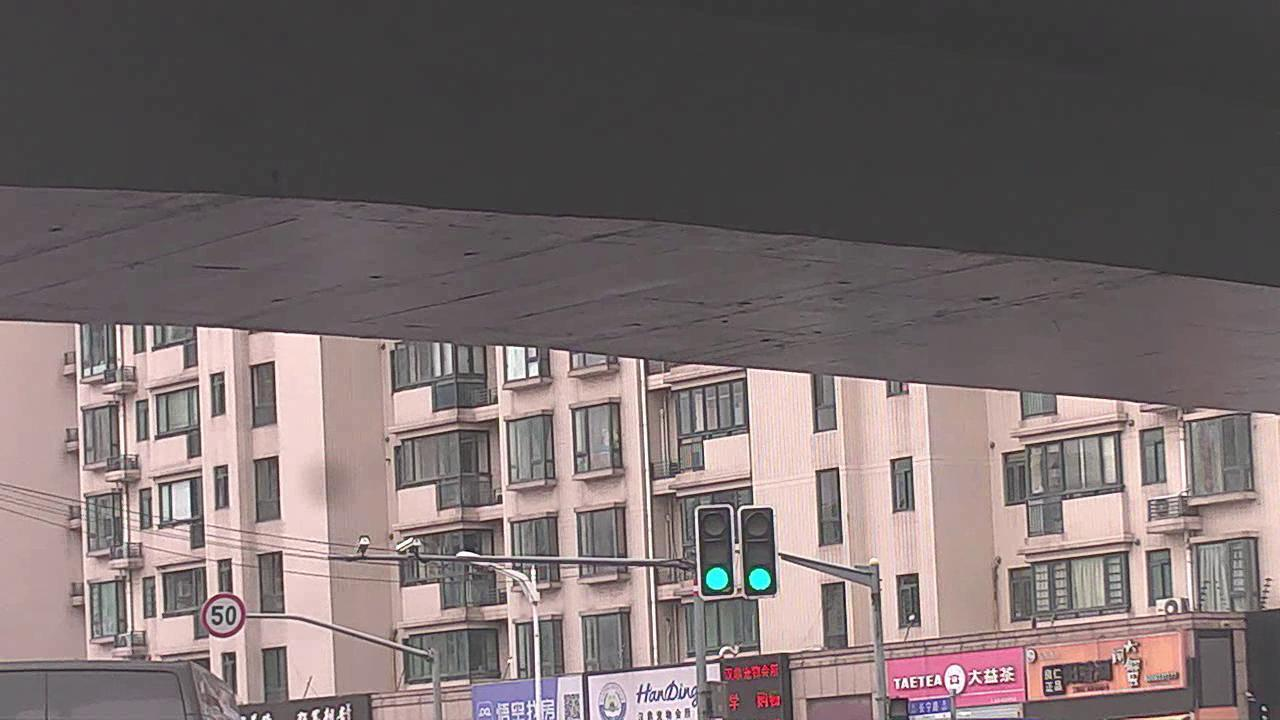traffic_light: (737, 507, 780, 600), (697, 504, 737, 598)
